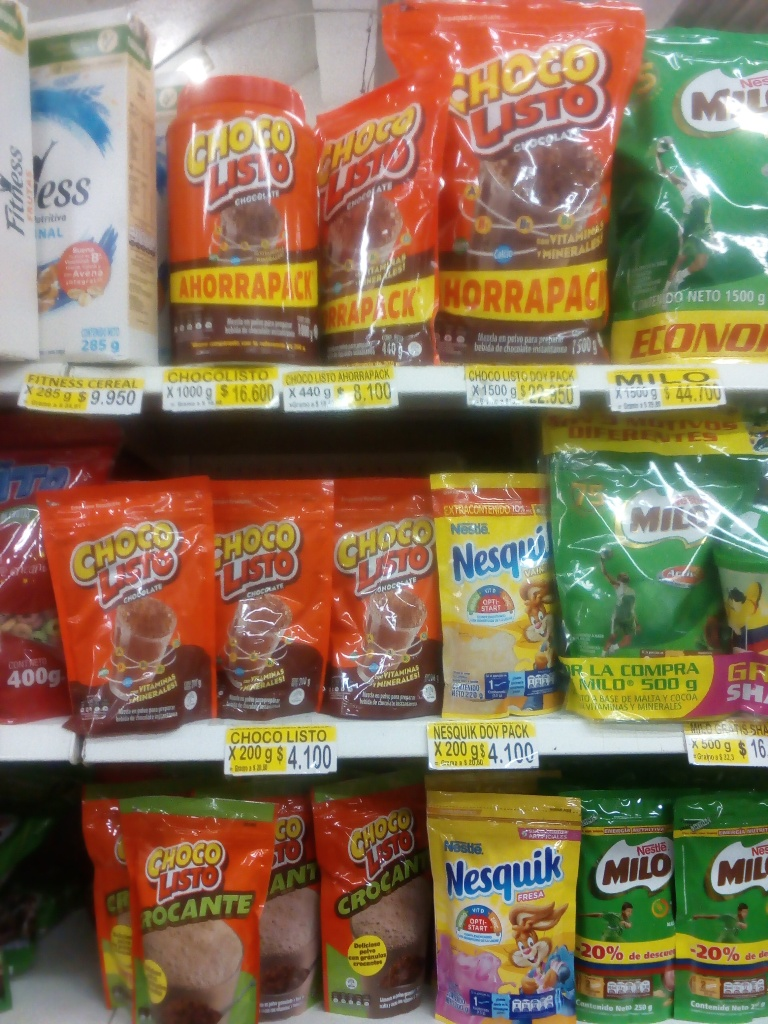COL0170102DYP25000: (117, 791, 261, 1023)
COL0170103DYP1,500: (387, 2, 625, 363)
COL0170103DYP44000: (315, 83, 462, 358)
COL0170103TRR00100: (155, 65, 324, 357)
COL0170203DYP25000: (580, 790, 682, 1021)
COL0170203DYP50000: (553, 411, 724, 653)
COL0170305DYP20000: (423, 775, 586, 1021)
